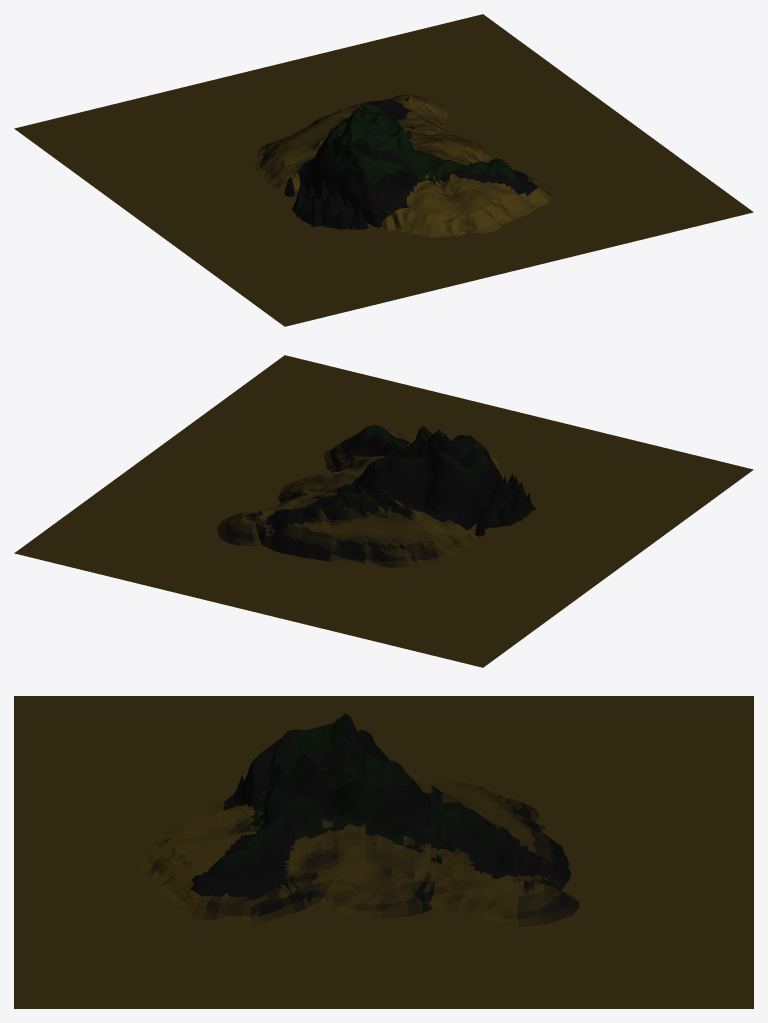
Rendered from Island.dae.
3 renders of one model, top to bottom at view 1: azimuth 30°, elevation 25°; view 2: azimuth 150°, elevation 25°; view 3: azimuth 270°, elevation 25°, orthographic. The views are drawn at different scales.
Visible parts, largest first — view 1: land; view 2: land; view 3: land.
Boxes of the visible parts, x1,y1,x2,y2 form: land: [14, 14, 753, 326]; land: [14, 355, 753, 667]; land: [14, 696, 753, 1008].
Bounding box in the file's own units: 0.7693 × 0.7693 × 0.13.
